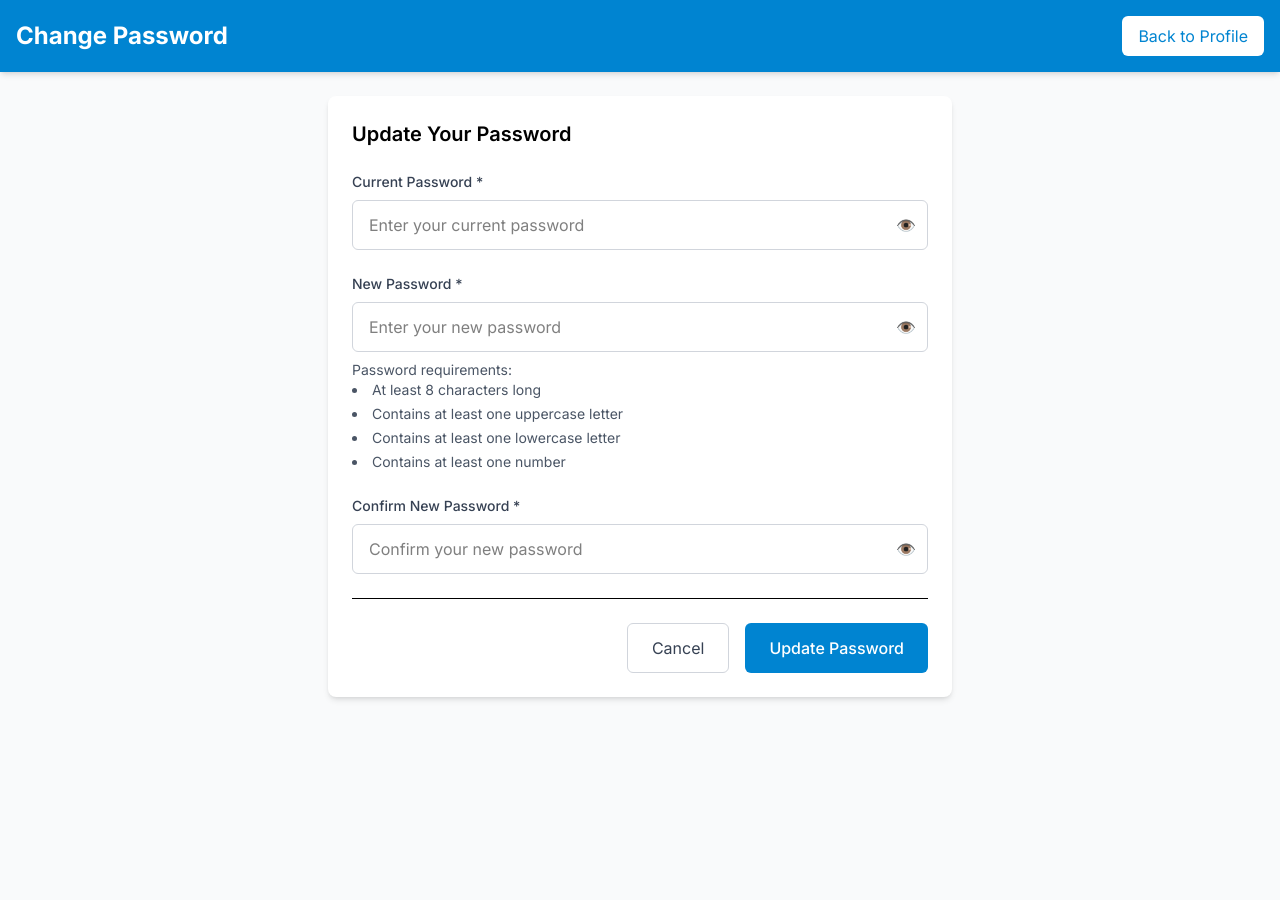
it: Profile Pages › ChangePasswordPage › validates password confirmation
The image size is (1280, 900).
Type "NewPassword123" into the password field with placeholder "Enter your new password" at coordinates (640, 327), box x1=352 y1=302 x2=928 y2=352
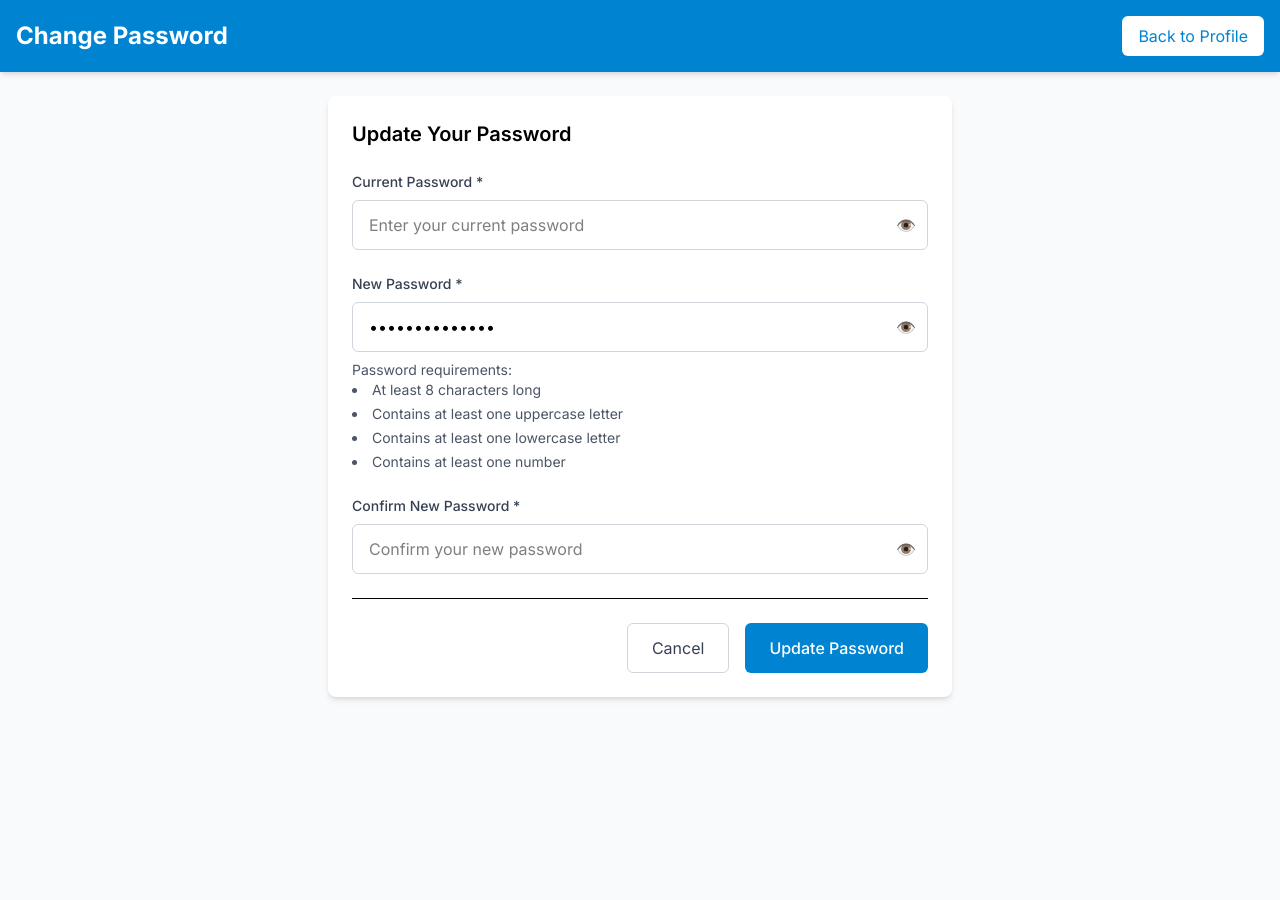
Type "DifferentPassword123" into the password field with placeholder "Confirm your new password" at coordinates (640, 549), box x1=352 y1=524 x2=928 y2=574
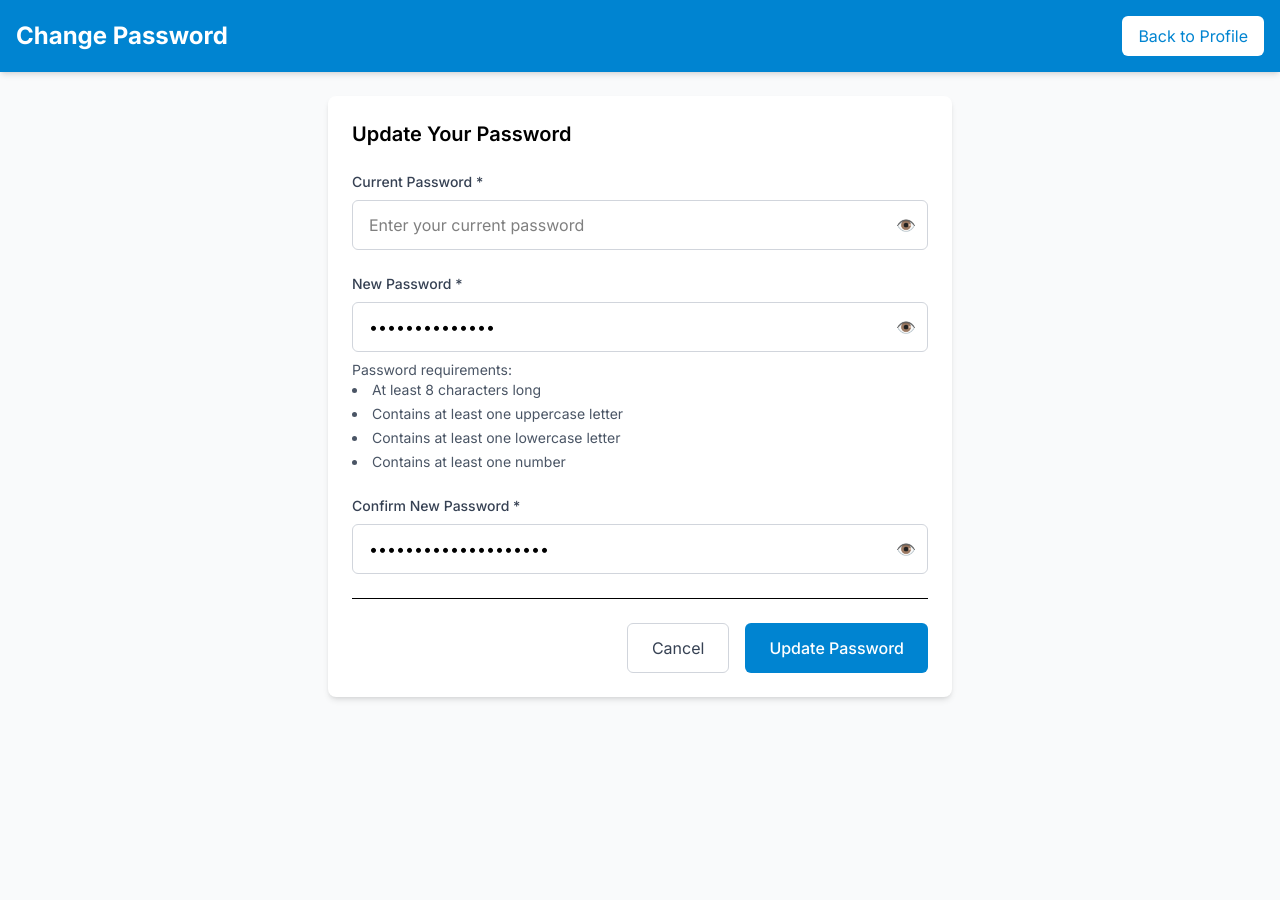
Click the button "Update Password" at coordinates (837, 648), box x1=745 y1=623 x2=928 y2=673
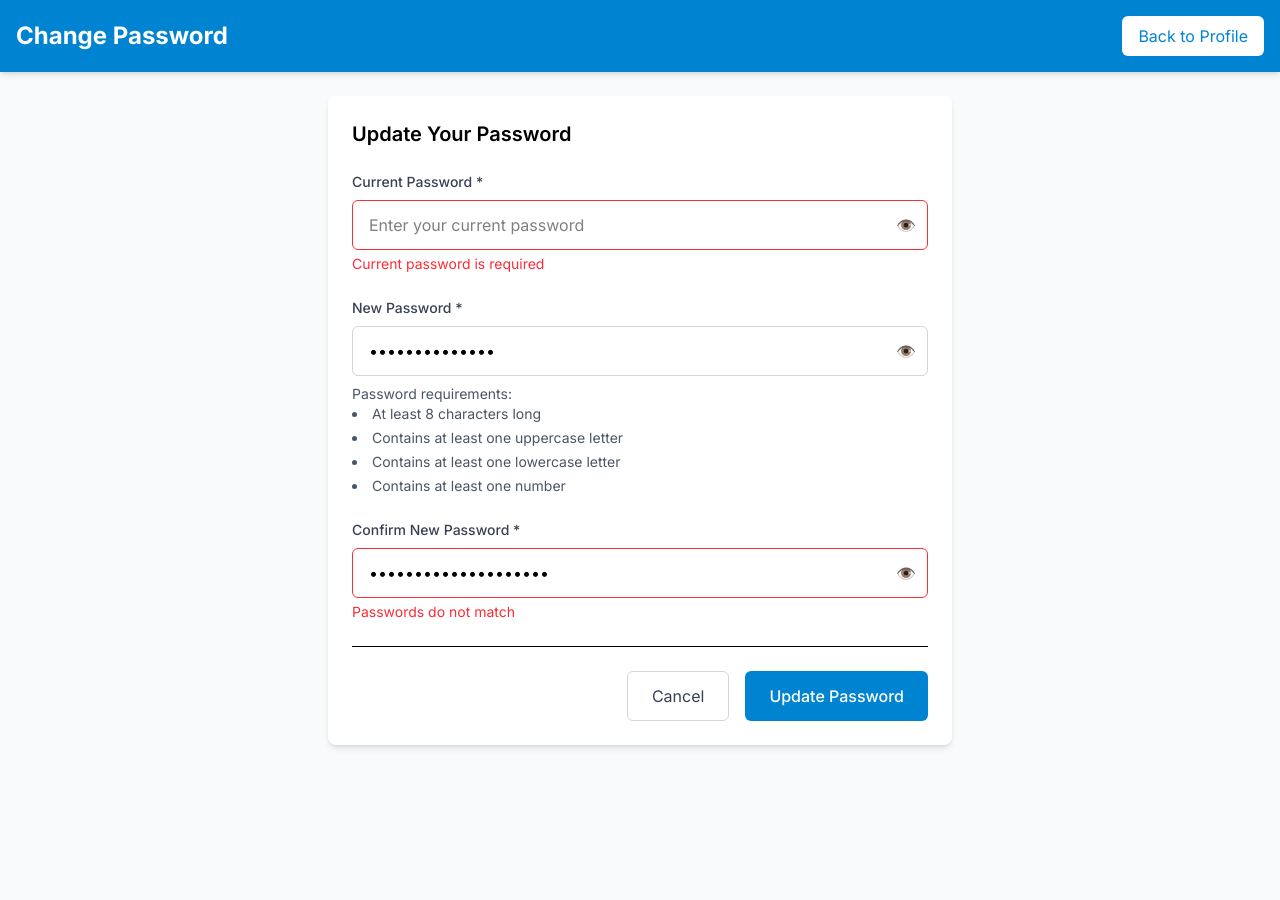
Check: the text "Passwords do not match" is shown, box x1=352 y1=603 x2=515 y2=620
